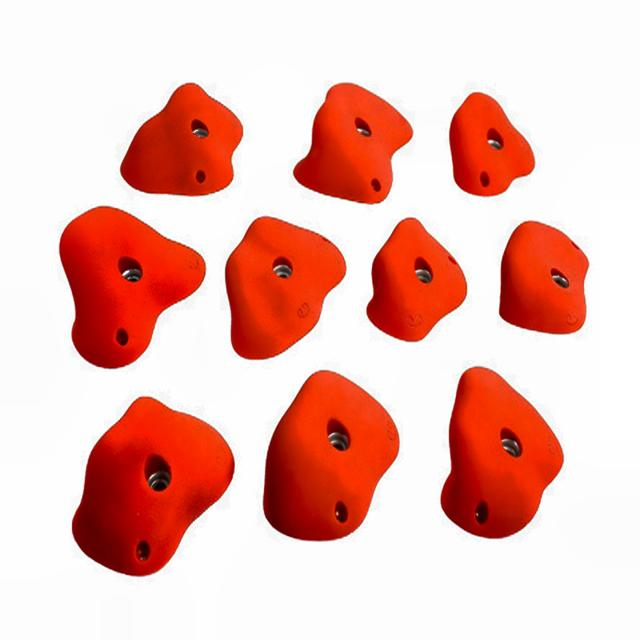Hold: (70, 398, 232, 572), (58, 206, 206, 368), (264, 373, 399, 544), (442, 368, 565, 540), (226, 216, 347, 358), (117, 82, 246, 194), (293, 83, 413, 201), (362, 219, 467, 341), (498, 220, 590, 335), (449, 89, 536, 195)
